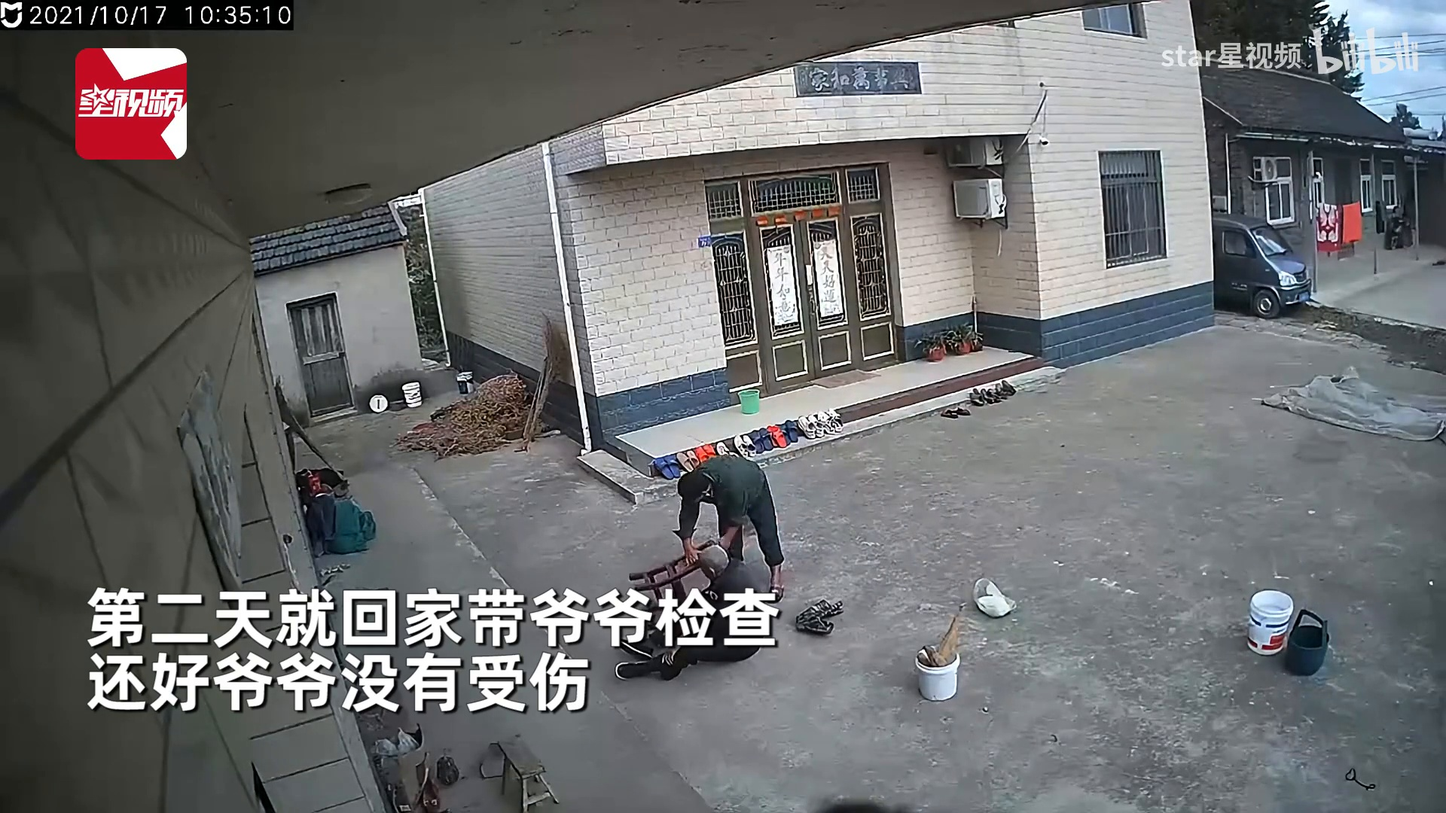bend: (672, 452, 787, 601)
half_up: (618, 546, 770, 686)
